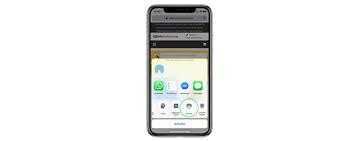Smartphone: (148, 3, 212, 137)
